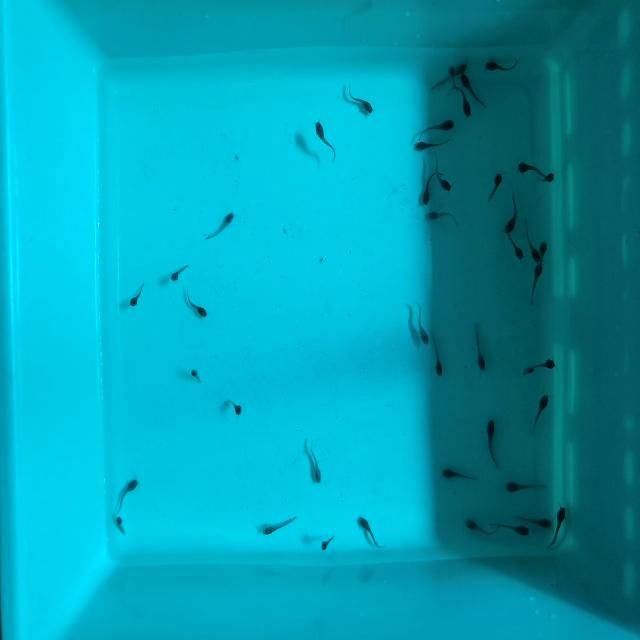lele: (303, 118, 341, 164), (339, 82, 379, 116), (430, 62, 469, 92), (178, 284, 210, 320), (114, 476, 144, 514), (459, 72, 488, 111), (205, 210, 239, 243), (546, 505, 570, 551), (356, 512, 385, 549), (527, 393, 552, 434), (409, 299, 430, 347), (414, 116, 457, 139), (521, 219, 543, 263), (262, 515, 300, 540), (451, 83, 476, 121), (469, 325, 487, 375), (492, 520, 534, 541), (483, 417, 499, 470), (464, 516, 500, 539), (502, 230, 526, 262), (528, 263, 545, 306), (515, 512, 555, 530), (126, 278, 149, 308), (507, 188, 522, 234), (440, 466, 478, 484), (504, 478, 548, 493), (484, 171, 504, 203), (430, 332, 444, 377), (310, 439, 324, 484), (421, 169, 438, 205), (415, 137, 452, 153), (426, 207, 461, 223), (433, 170, 455, 194), (484, 60, 521, 74), (170, 260, 192, 283), (226, 397, 246, 418), (515, 162, 543, 175), (537, 240, 548, 272), (534, 357, 559, 371), (320, 534, 337, 554), (115, 515, 128, 537), (188, 368, 204, 385), (538, 172, 558, 184), (520, 366, 535, 377), (449, 65, 456, 86)
